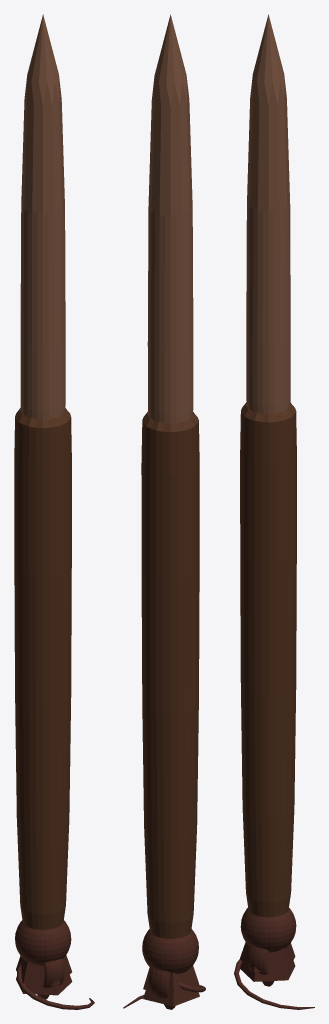
Rendered from Wand 8.glb.
3 renders of one model, left to right at view 1: azimuth 30°, elevation 25°; view 2: azimuth 150°, elevation 25°; view 3: azimuth 330°, elevation 25°, orthographic. The views are drawn at different scales.
Visible parts, largest first — view 1: GeneratedWand, Pommel_4, Pommel_10, Pommel_2, Pommel_9; view 2: GeneratedWand, Pommel_4, Pommel_2, Pommel_9, Pommel_10; view 3: GeneratedWand, Pommel_4, Pommel_9, Pommel_2, Pommel_10.
Part boxes in pixels (bbox=[...]): GeneratedWand: bbox=[14, 14, 71, 985]; Pommel_4: bbox=[15, 920, 71, 965]; Pommel_10: bbox=[17, 963, 94, 1009]; Pommel_2: bbox=[42, 958, 64, 987]; Pommel_9: bbox=[16, 974, 72, 995]; GeneratedWand: bbox=[141, 14, 199, 996]; Pommel_4: bbox=[142, 929, 198, 973]; Pommel_2: bbox=[149, 967, 170, 997]; Pommel_9: bbox=[143, 990, 199, 1006]; Pommel_10: bbox=[123, 982, 205, 1008]; GeneratedWand: bbox=[240, 14, 296, 972]; Pommel_4: bbox=[240, 908, 296, 952]; Pommel_9: bbox=[240, 960, 295, 981]; Pommel_2: bbox=[247, 945, 268, 974]; Pommel_10: bbox=[234, 959, 314, 1009].
Size of the model in its own units: 0.0402 by 0.5205 by 0.0338.
